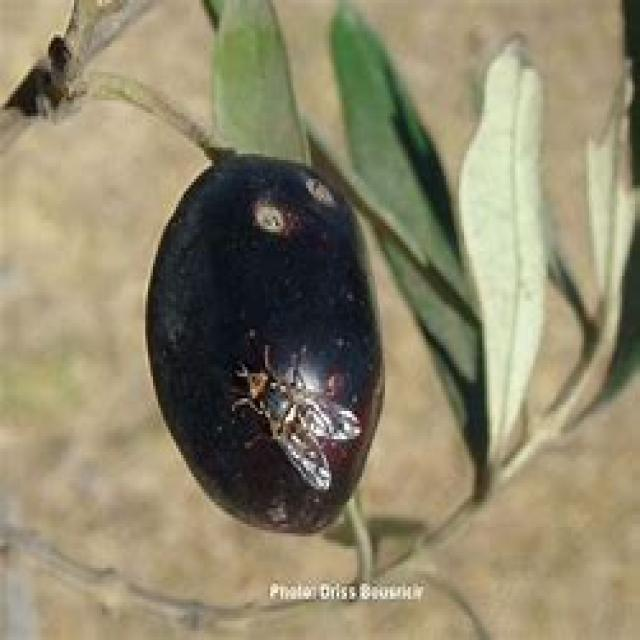Anthracnose: (146, 160, 382, 527)
